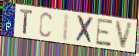C: (38, 11, 53, 39)
E: (95, 18, 114, 47)
I: (62, 12, 71, 43)
T: (19, 8, 34, 36)
V: (115, 20, 135, 50)
X: (75, 14, 95, 45)
